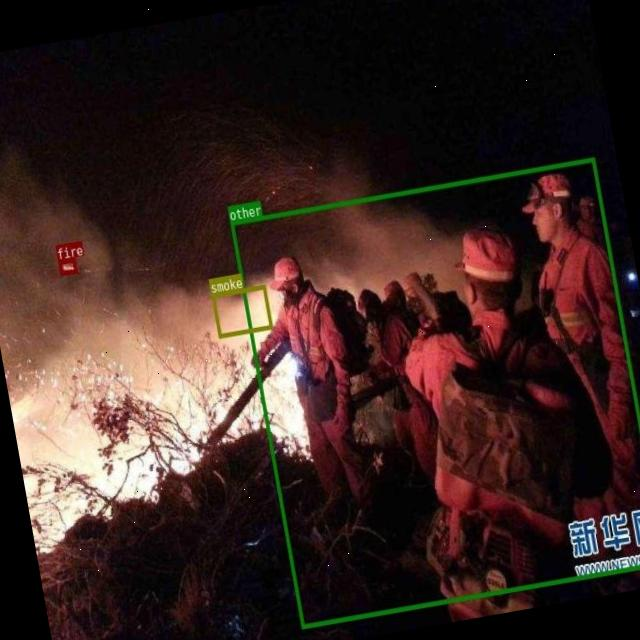fire: (58, 256, 76, 274)
smoke: (210, 284, 272, 338)
